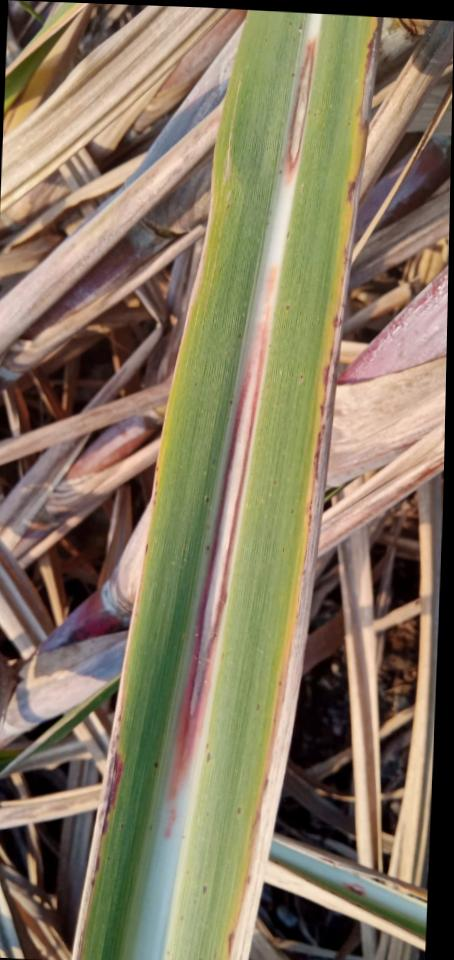RedRot: (162, 264, 277, 840), (89, 751, 124, 888), (285, 37, 317, 184)
